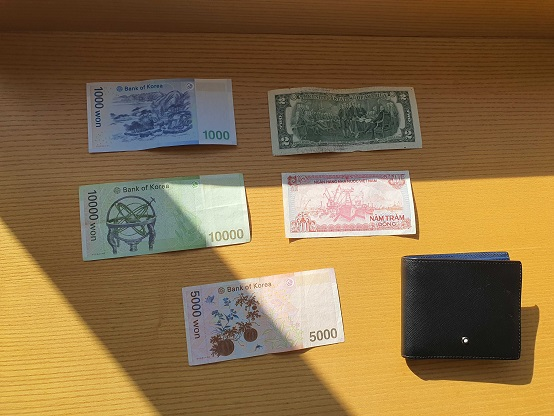10000won: (80, 172, 252, 261)
1000won: (84, 78, 238, 154)
2dollar: (266, 85, 422, 155)
5000won: (180, 270, 344, 366)
500vnd: (280, 170, 417, 239)
